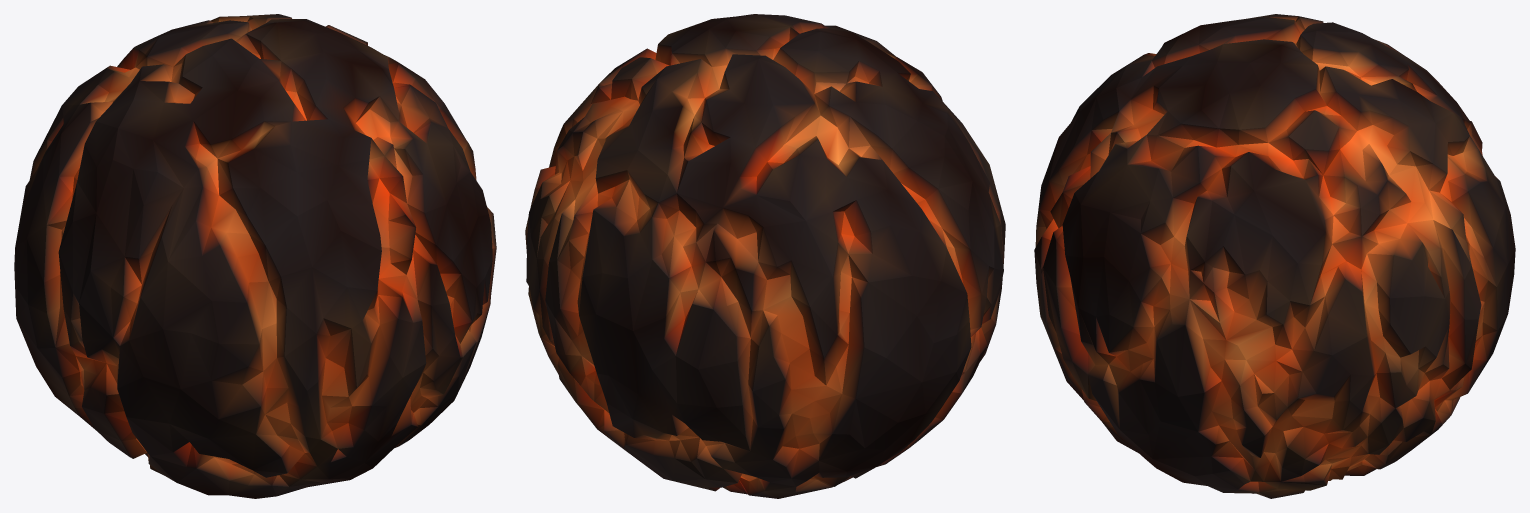
File: barren_1.fbx
3 views of the same model, side by side, from view 1: azimuth 30°, elevation 25°; view 2: azimuth 150°, elevation 25°; view 3: azimuth 270°, elevation 25° (orthographic).
Visible parts, largest first — view 1: filecache1; view 2: filecache1; view 3: filecache1.
Part boxes in pixels (x1,y1,x2,y2): filecache1: (14,14,496,498); filecache1: (525,14,1005,498); filecache1: (1034,14,1515,498).
Size of the model in its own units: 2.14 by 2.21 by 2.16.
